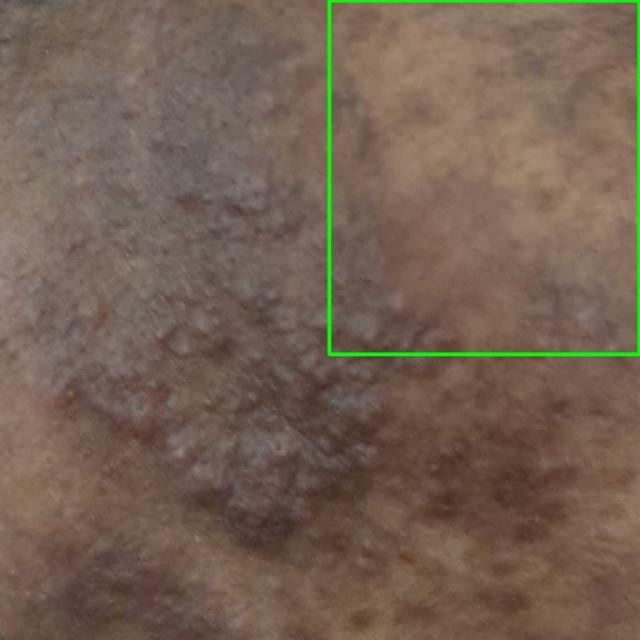Tinea Corporis: (329, 0, 639, 354)
